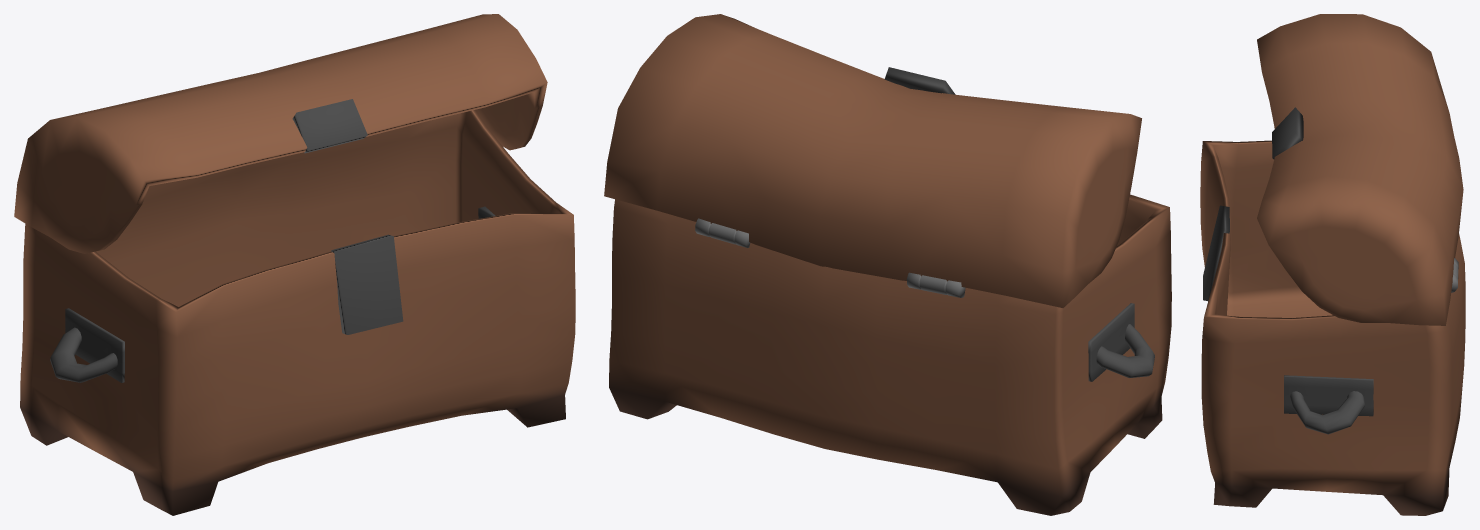
Rendered from 1cofre.glb.
3 views of the same model, side by side, from view 1: azimuth 30°, elevation 25°; view 2: azimuth 150°, elevation 25°; view 3: azimuth 270°, elevation 25° (orthographic). The views are drawn at different scales.
Visible parts, largest first — view 1: Cofre_Pirata1_Cofre_Pirata1_0; view 2: Cofre_Pirata1_Cofre_Pirata1_0; view 3: Cofre_Pirata1_Cofre_Pirata1_0.
Part boxes in pixels (<box>): Cofre_Pirata1_Cofre_Pirata1_0: <box>14,14,575,515</box>; Cofre_Pirata1_Cofre_Pirata1_0: <box>604,14,1171,515</box>; Cofre_Pirata1_Cofre_Pirata1_0: <box>1200,14,1465,515</box>.
Size of the model in its own units: 0.6943 by 0.456 by 0.3504.
